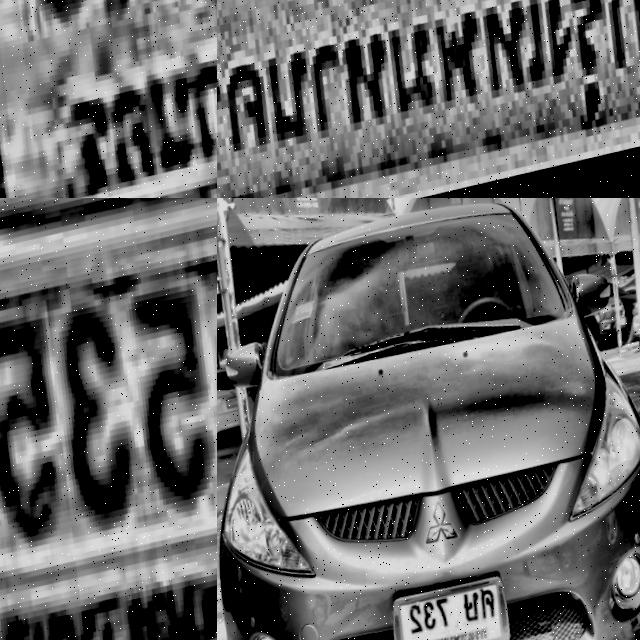license-plate: (0, 198, 217, 640), (217, 0, 640, 198), (0, 0, 217, 198), (383, 568, 529, 640)
